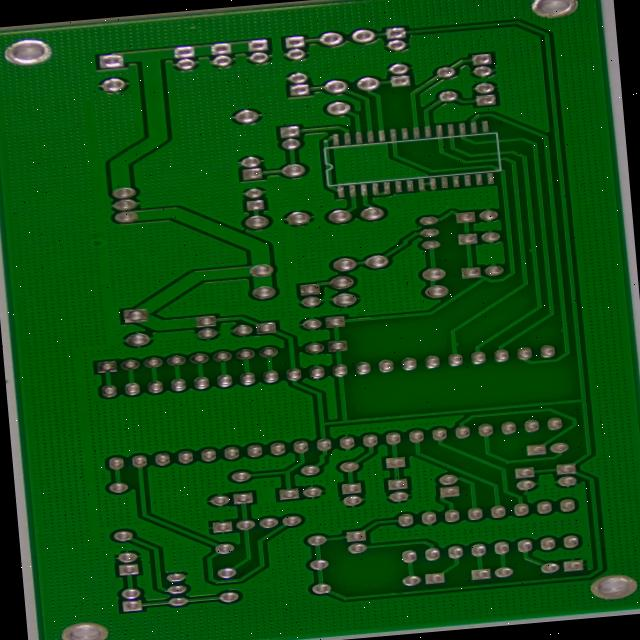spur: (445, 340, 462, 350), (556, 325, 572, 335), (522, 246, 539, 255)
